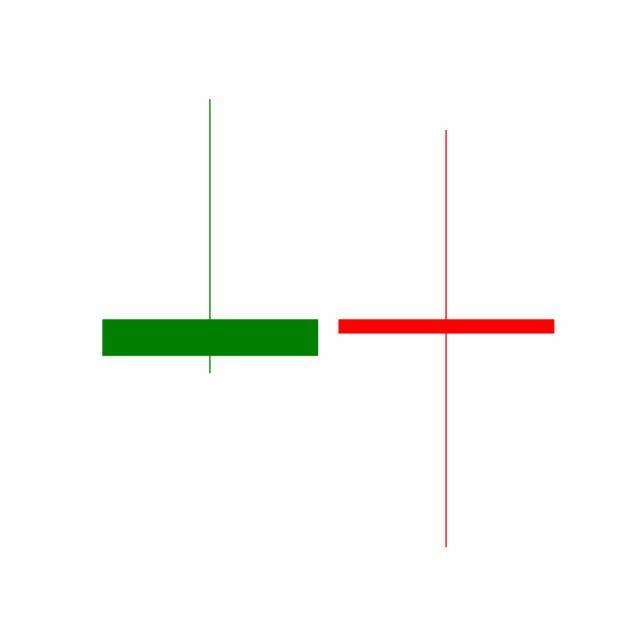Spinning Top: (328, 126, 566, 553)
